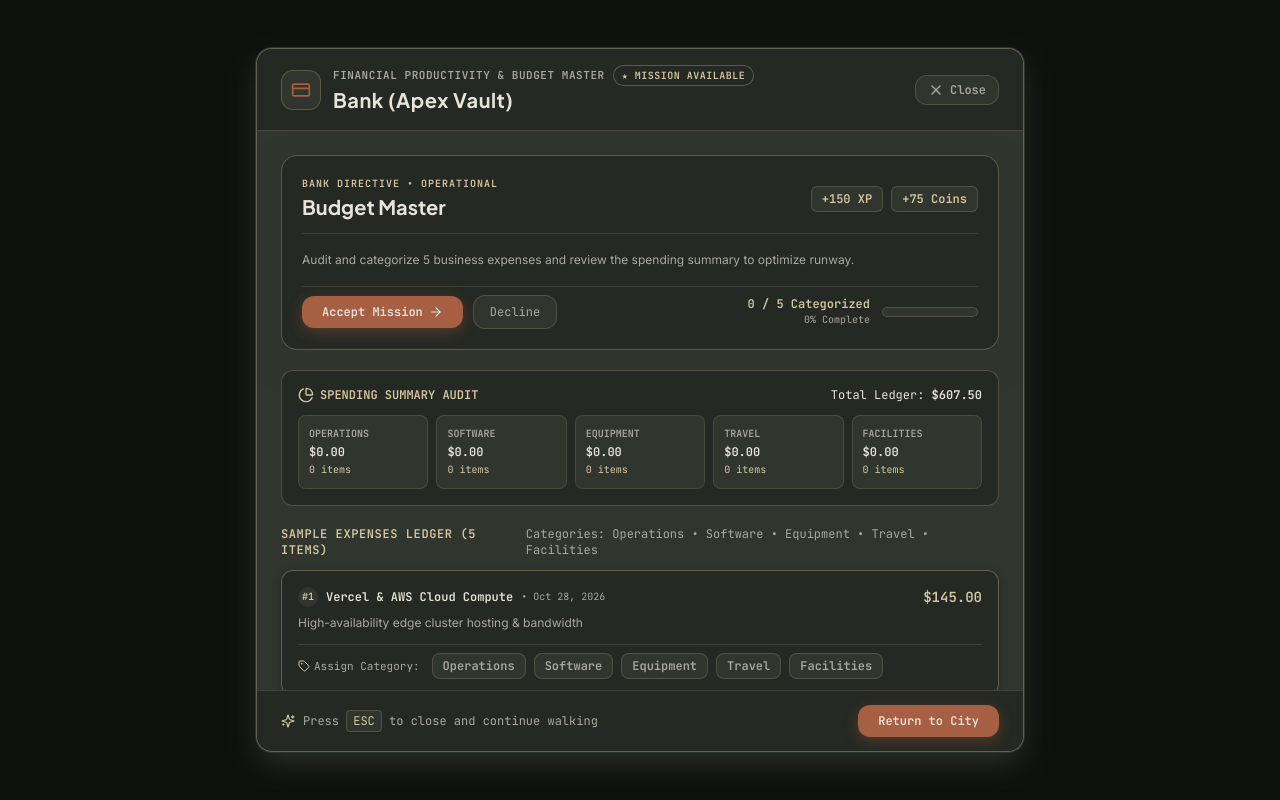
Test: MORPHYX Building Interaction & Modal System › opens Budget Master mission in Bank with Accept, Decline, 5 expenses, spending summary, and rewards
Expected: the heading "Budget Master" is shown, [302,194,446,219]
Expected: the text "Audit and categorize 5 business expenses and review the spending summary" is shown, [302,252,854,267]
Categorize one item
Click the button "Operations": [479, 666] box [432,653,526,679]
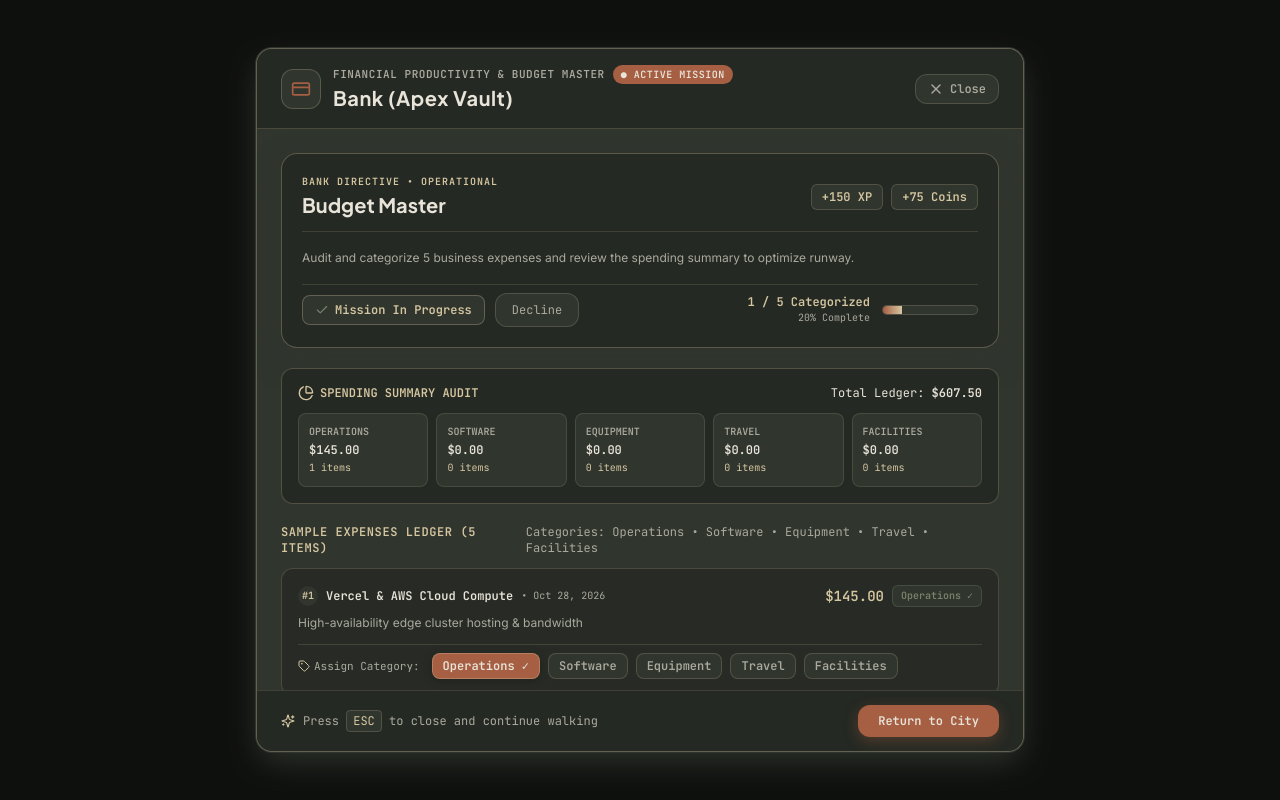
Expected: the button "Close" is shown, [915,74,999,104]
Expected: the text "1 / 5 Categorized" is shown, [748,294,870,310]
